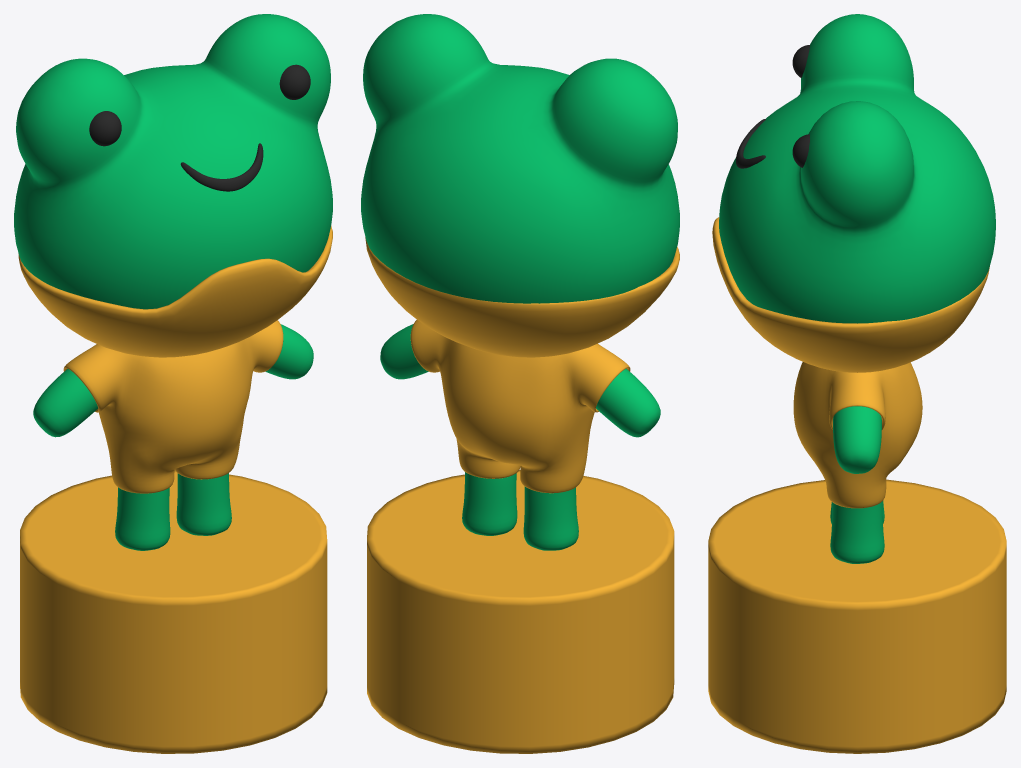
File: frog.glb
The picture shows the model from 3 angles, left to right: view 1: azimuth 30°, elevation 25°; view 2: azimuth 150°, elevation 25°; view 3: azimuth 270°, elevation 25°; orthographic projection. The views are drawn at different scales.
Parts seen in each view (by area): view 1: Cylinder, Roundcube.002, Roundcube.003, Roundcube.004, Roundcube.001, Roundcube.005, NurbsPath; view 2: Roundcube.002, Cylinder, Roundcube.003, Roundcube.004, Roundcube.001; view 3: Cylinder, Roundcube.002, Roundcube.003, Roundcube.004, Roundcube.001, Roundcube.005.
Boxes of the visible parts, left/top/right/bottom form: Cylinder: left=20, top=470, right=327, bottom=753; Roundcube.002: left=14, top=14, right=332, bottom=309; Roundcube.003: left=63, top=320, right=283, bottom=493; Roundcube.004: left=18, top=225, right=332, bottom=357; Roundcube.001: left=33, top=324, right=313, bottom=550; Roundcube.005: left=89, top=64, right=310, bottom=146; NurbsPath: left=180, top=143, right=263, bottom=191; Roundcube.002: left=361, top=14, right=679, bottom=303; Cylinder: left=367, top=470, right=674, bottom=753; Roundcube.003: left=410, top=320, right=630, bottom=493; Roundcube.004: left=365, top=237, right=679, bottom=357; Roundcube.001: left=380, top=324, right=660, bottom=550; Cylinder: left=708, top=479, right=1006, bottom=753; Roundcube.002: left=719, top=14, right=995, bottom=323; Roundcube.003: left=793, top=362, right=922, bottom=508; Roundcube.004: left=712, top=217, right=989, bottom=372; Roundcube.001: left=830, top=406, right=884, bottom=563; Roundcube.005: left=792, top=45, right=809, bottom=167.
Bounding box in the file's own units: 0.3983 × 0.819 × 0.3529.
